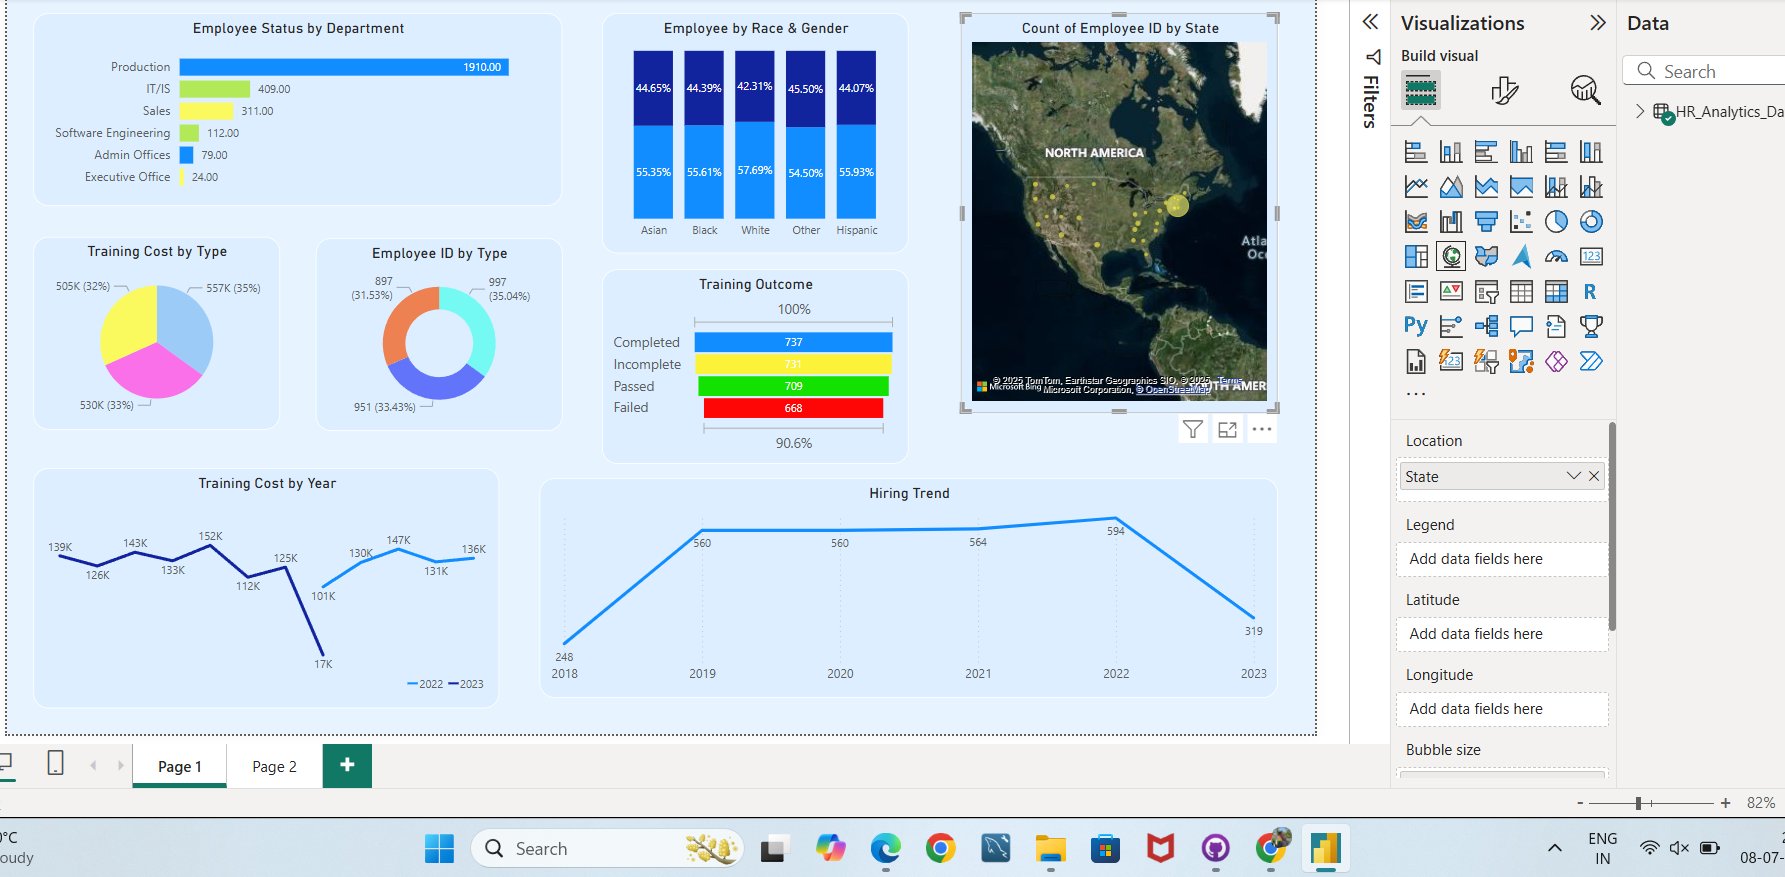

The page's visual inventory and layout, read from the dashboard file:
{"tool":"powerbi","page":{"name":"Page 1","canvas":[1280,720],"ordinal":0},"visuals":[{"type":"clusteredBarChart","title":"Employee Status by Department","fields":{"Category":["HR_Analytics_Dataset.DepartmentType"],"Y":["CountNonNull(HR_Analytics_Dataset.EmployeeStatus)"]},"box":[26.2,15,517.5,188.8],"z":0},{"type":"pieChart","title":"Training Cost by Type","fields":{"Y":["Sum(HR_Analytics_Dataset.Training Cost)"],"Category":["HR_Analytics_Dataset.EmployeeClassificationType"]},"box":[26.2,233.8,241.2,188.8],"z":1000},{"type":"donutChart","title":" Employee ID by Type","fields":{"Y":["CountNonNull(HR_Analytics_Dataset.Employee ID)"],"Category":["HR_Analytics_Dataset.EmployeeType"]},"box":[302.5,235,241.2,188.8],"z":2000},{"type":"lineChart","title":"Training Cost by Year","fields":{"Y":["Sum(HR_Analytics_Dataset.Training Cost)"],"Category":["HR_Analytics_Dataset.Training Date.Variation.Date Hierarchy.Month"],"Series":["HR_Analytics_Dataset.Training Date.Variation.Date Hierarchy.Year"]},"box":[26.2,460,456.2,235],"z":3000},{"type":"hundredPercentStackedColumnChart","title":"Employee by Race & Gender","fields":{"Series":["HR_Analytics_Dataset.GenderCode"],"Category":["HR_Analytics_Dataset.RaceDesc"],"Y":["CountNonNull(HR_Analytics_Dataset.Employee ID)"]},"box":[582.5,15,300,235],"z":4000},{"type":"map","fields":{"Category":["HR_Analytics_Dataset.State"],"Size":["Count(HR_Analytics_Dataset.Employee ID)"]},"box":[932.5,15,311.2,391.2],"z":5000},{"type":"funnel","title":"Training Outcome","fields":{"Category":["HR_Analytics_Dataset.Training Outcome"],"Y":["CountNonNull(HR_Analytics_Dataset.Employee ID)"]},"box":[582.5,265,300,190],"z":6000},{"type":"lineChart","title":"Hiring Trend ","fields":{"Category":["HR_Analytics_Dataset.StartDate.Variation.Date Hierarchy.Year"],"Y":["CountNonNull(HR_Analytics_Dataset.Employee ID)"]},"box":[521.2,470,722.5,215],"z":7000}]}

Visuals, with their boxes on the page's 1280x720 design canvas (x1, y1, x2, y2). These are canvas units, not pixel positions in the 1785x877 screenshot, which may show the page scaled, cropped or inside an application window:
"Employee Status by Department" clusteredBarChart: Rect(26, 15, 544, 204)
"Training Cost by Type" pieChart: Rect(26, 234, 267, 423)
" Employee ID by Type" donutChart: Rect(302, 235, 544, 424)
"Training Cost by Year" lineChart: Rect(26, 460, 482, 695)
"Employee by Race & Gender" hundredPercentStackedColumnChart: Rect(582, 15, 882, 250)
map - HR_Analytics_Dataset.State x Count(HR_Analytics_Dataset.Employee ID): Rect(932, 15, 1244, 406)
"Training Outcome" funnel: Rect(582, 265, 882, 455)
"Hiring Trend " lineChart: Rect(521, 470, 1244, 685)
